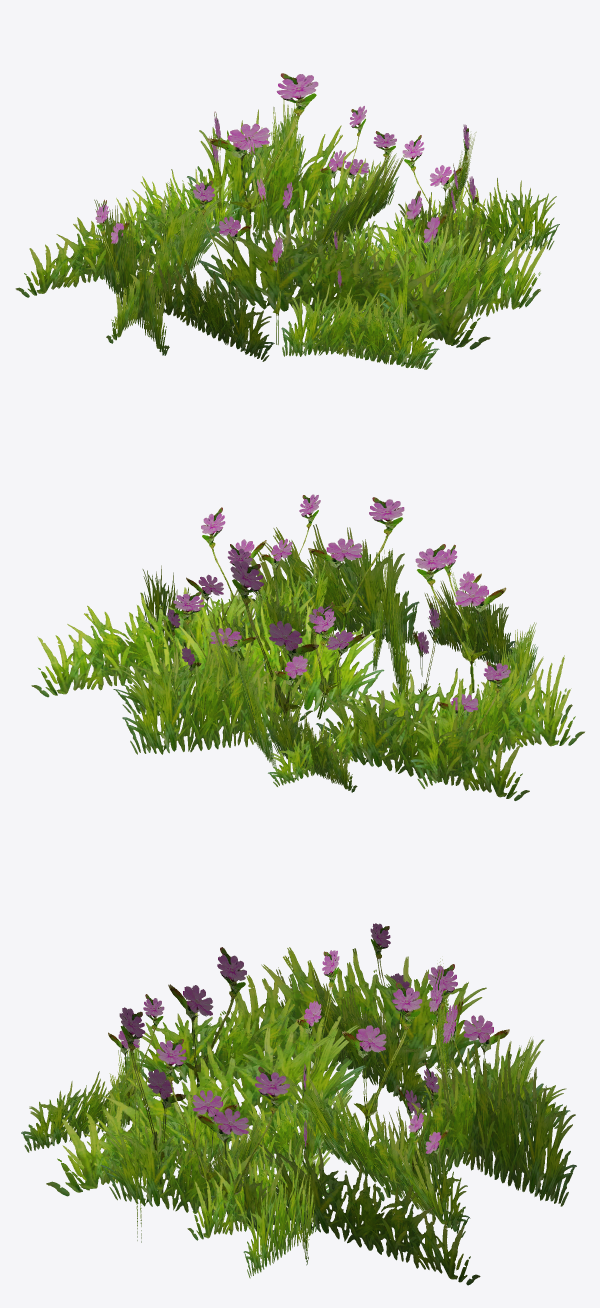
The model's file is DN_grass08d.FBX.
3 views of the same model, one above another, from view 1: azimuth 30°, elevation 25°; view 2: azimuth 150°, elevation 25°; view 3: azimuth 270°, elevation 25° (orthographic). The views are drawn at different scales.
Parts seen in each view (by area): view 1: DN_grass08d; view 2: DN_grass08d; view 3: DN_grass08d.
Boxes of the visible parts, box(x1,y1,x2,y2) form: DN_grass08d: box(15, 73, 559, 369); DN_grass08d: box(31, 494, 584, 800); DN_grass08d: box(21, 923, 576, 1285).
Size of the model in its own units: 108 by 40.84 by 90.35.
1 material, 1 textured.
